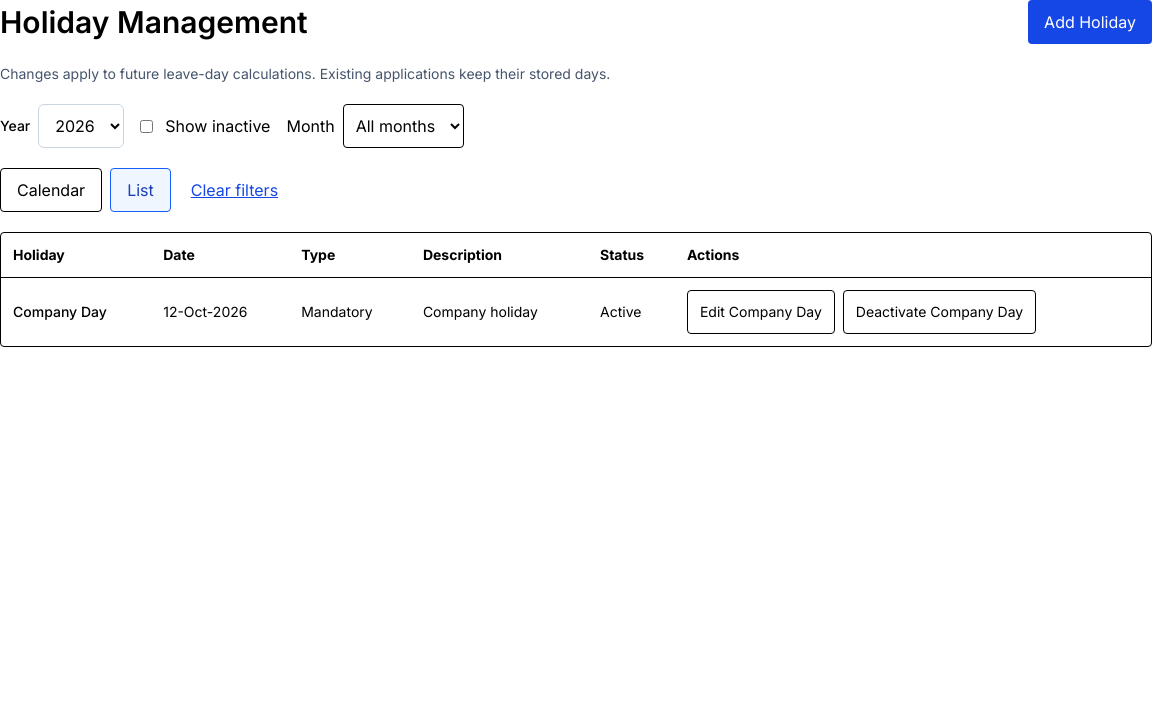
Phase 14 holiday administration › creates normalized date/name/optional fields and invalidates affected caches
The image size is (1152, 720).
Step 1. Click the button "Add Holiday" → click(1090, 22), box [1028,0,1151,44]
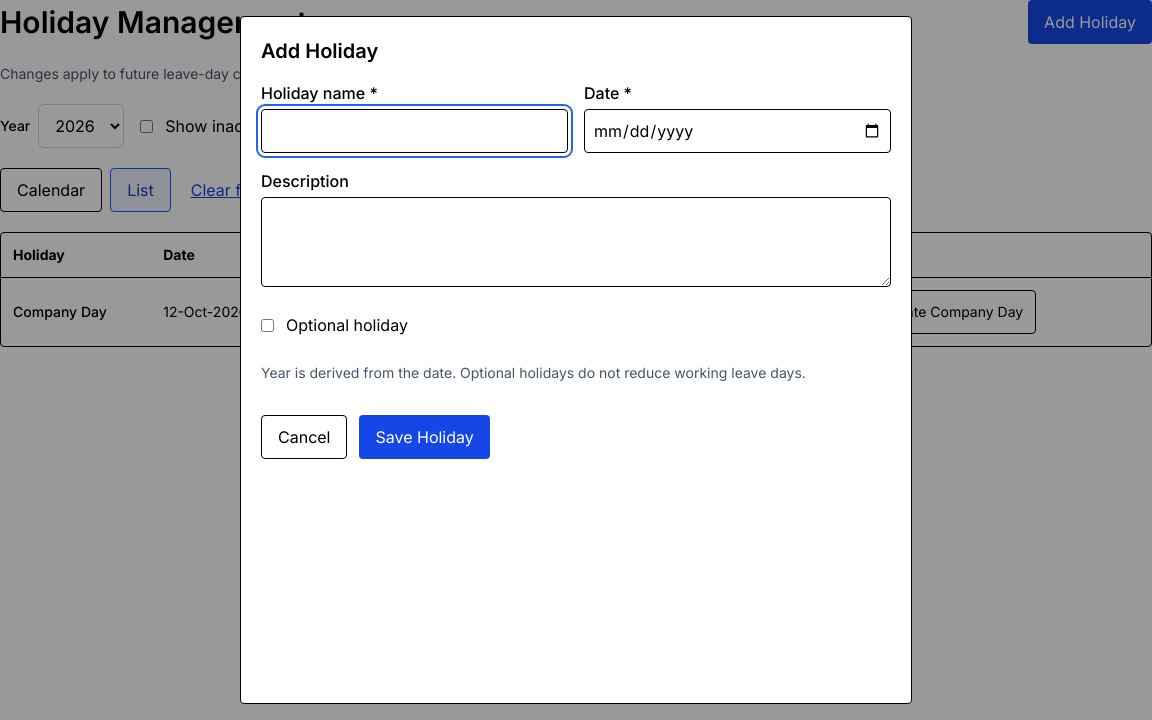
Step 2. Type " New Holiday " into the field labelled "Holiday name *" → (414, 131), box [261,109,568,153]
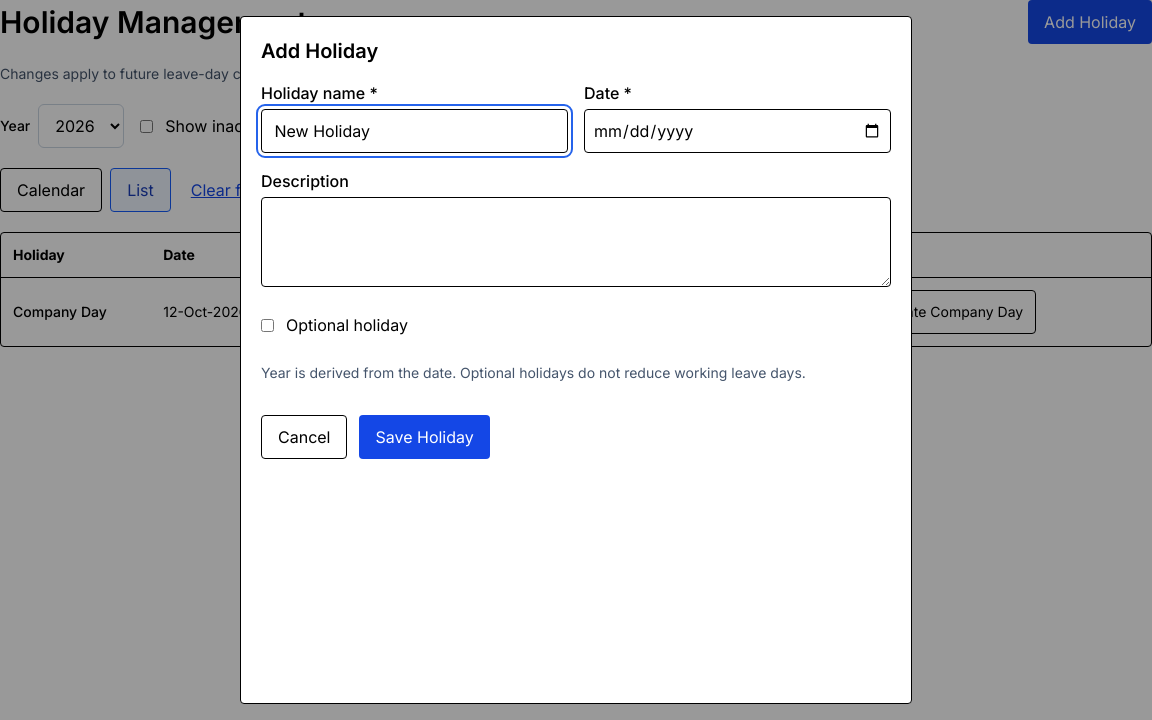
Step 3. Type "2026-10-19" into the date field labelled "Date *" → (738, 131), box [584,109,891,153]
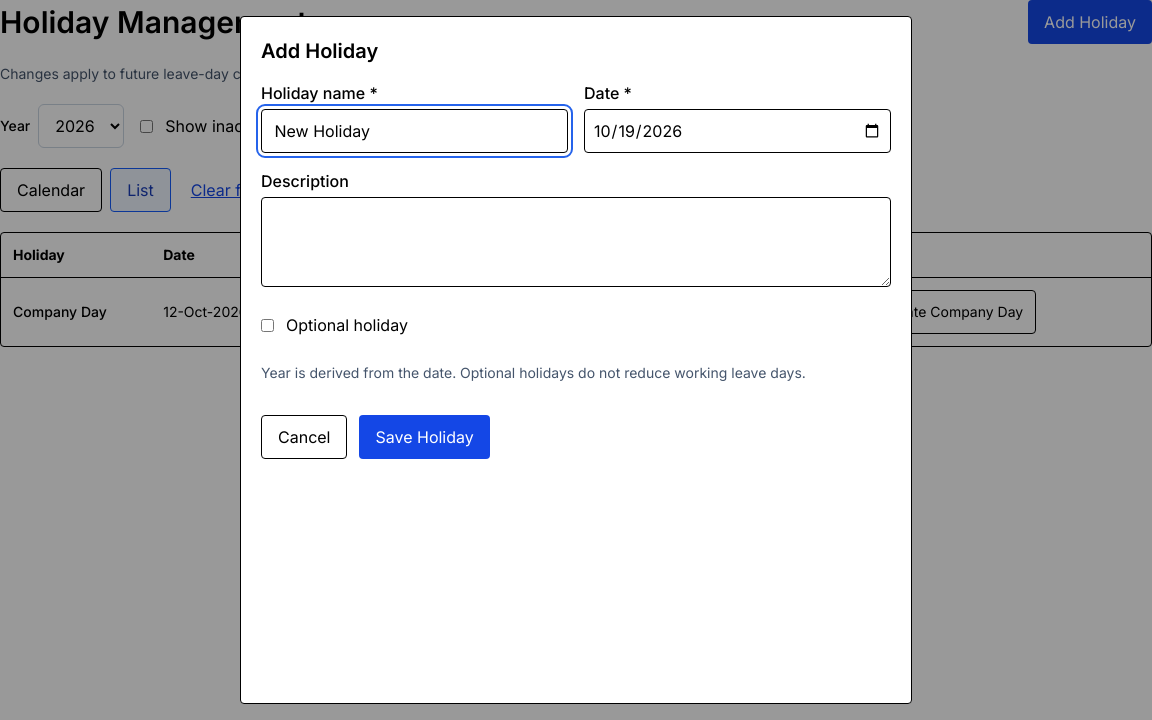
Step 4. Click the switch labelled "Optional holiday" → click(268, 325), box [261,318,274,332]
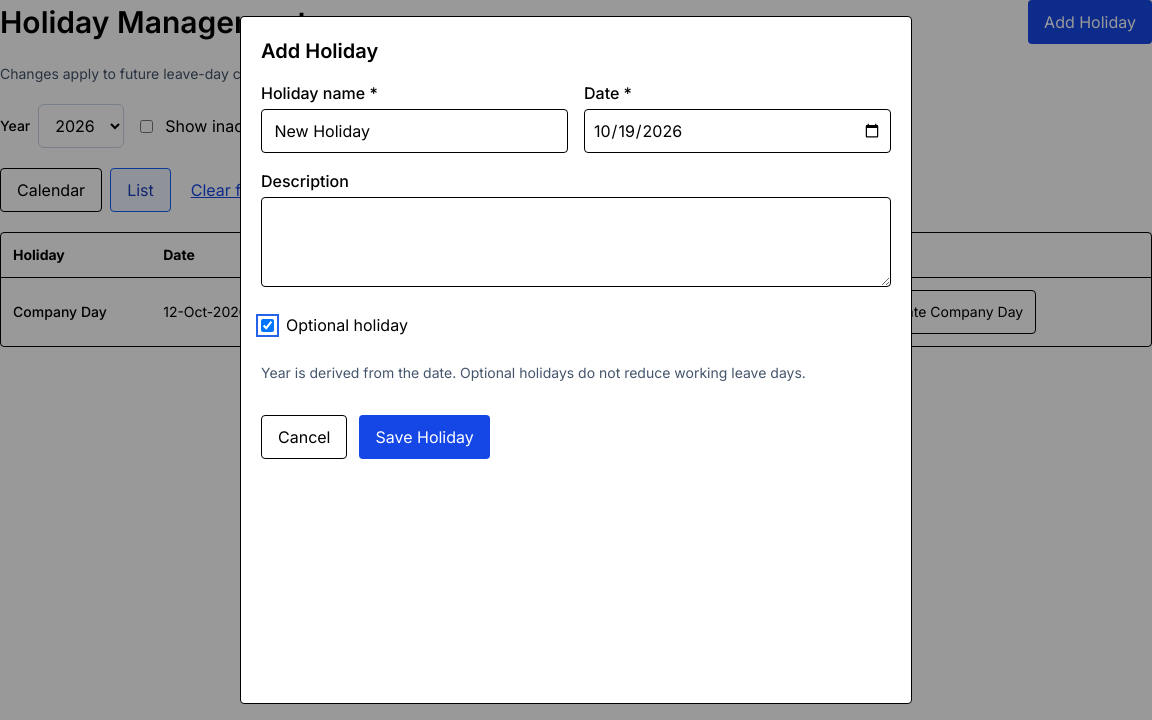
Step 5. Click the button "Save Holiday" → click(425, 437), box [360,415,490,459]
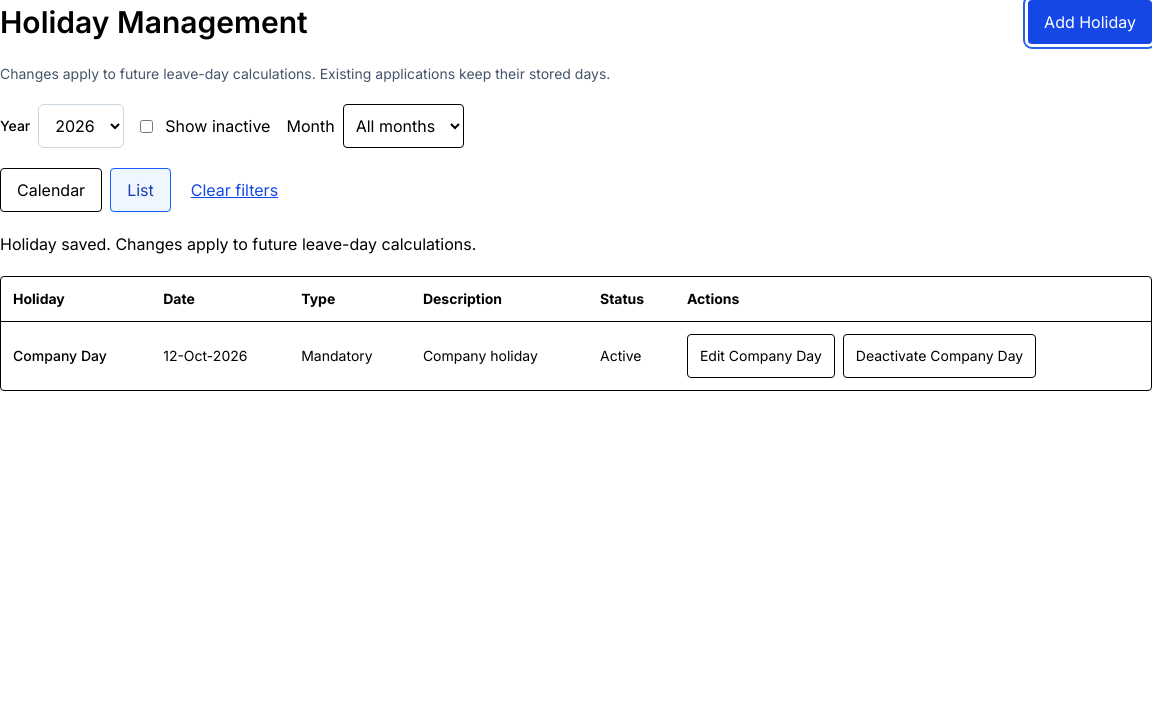
Now the text "Holiday saved. Changes apply to future leave-day calculations." is shown, box [0,234,476,254]
